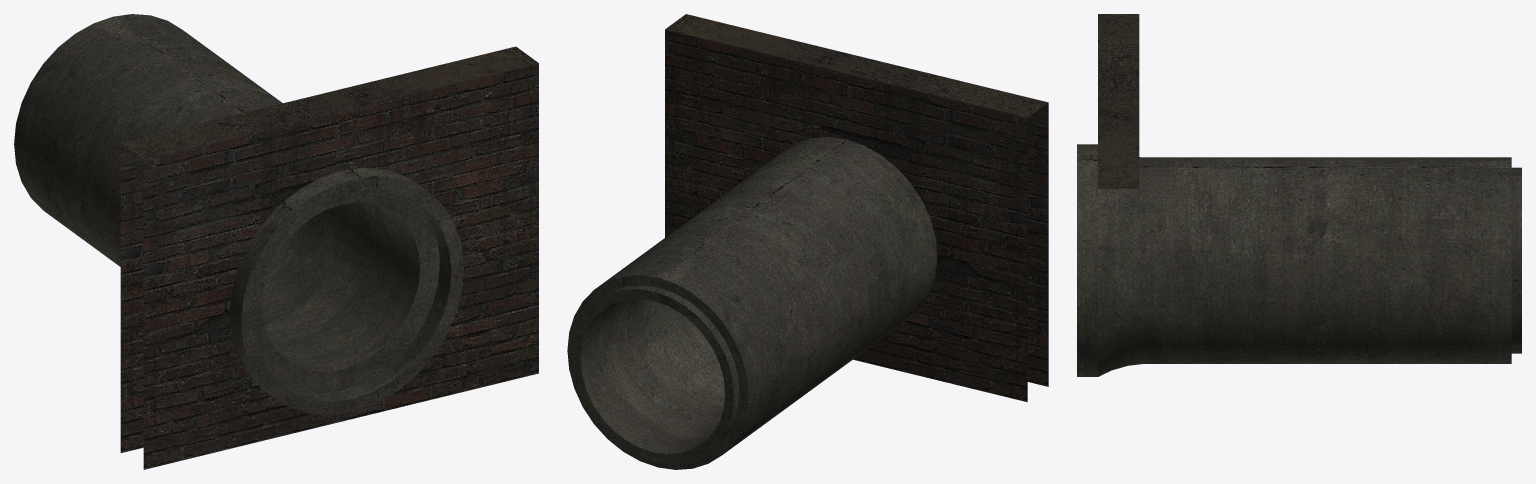
Rendered from wall_hs_1_hole_2.glb.
3 renders of one model, left to right at view 1: azimuth 30°, elevation 25°; view 2: azimuth 150°, elevation 25°; view 3: azimuth 270°, elevation 25°, orthographic. The views are drawn at different scales.
Parts seen in each view (by area): view 1: wall_hs_1_hole_2; view 2: wall_hs_1_hole_2; view 3: wall_hs_1_hole_2.
Part boxes in pixels (x1,y1,x2,y2): wall_hs_1_hole_2: (14, 14, 538, 469); wall_hs_1_hole_2: (567, 14, 1048, 469); wall_hs_1_hole_2: (1077, 14, 1521, 376).
Bounding box in the file's own units: 4 × 3 × 4.3.
3 materials, 3 textured.
